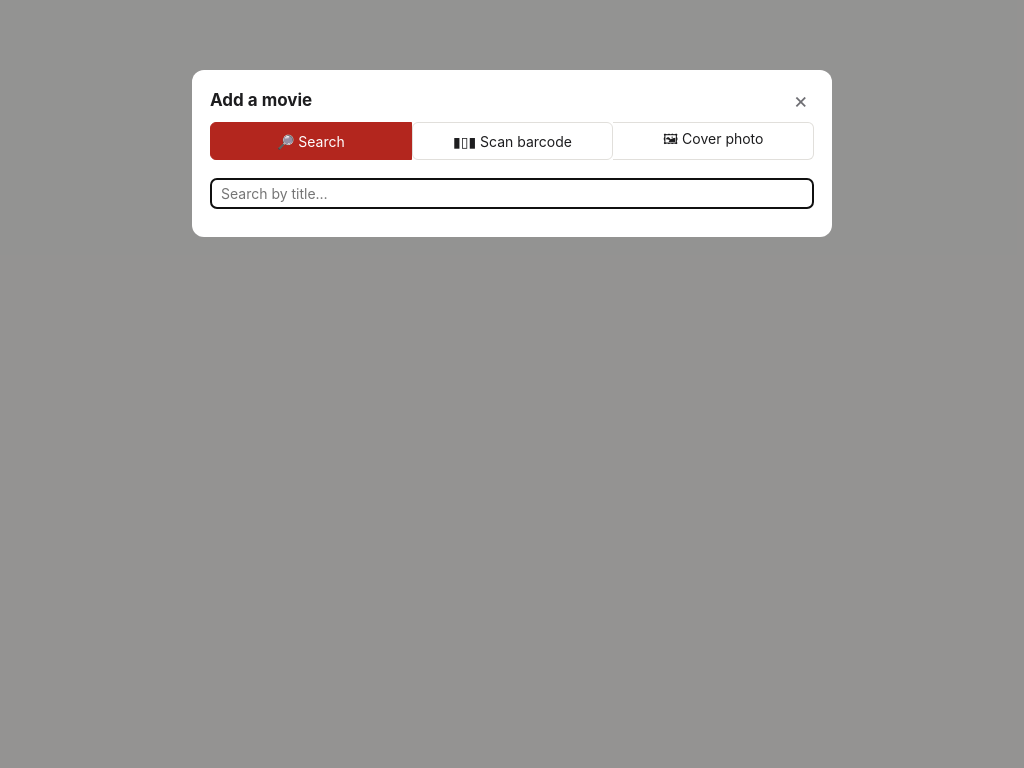
Scenario: search results show their source › badges TMDB, Elonet and linked results
Type "x" into the field with placeholder "Search by title…".
click(512, 194); type("x")  # box [210, 178, 814, 209]
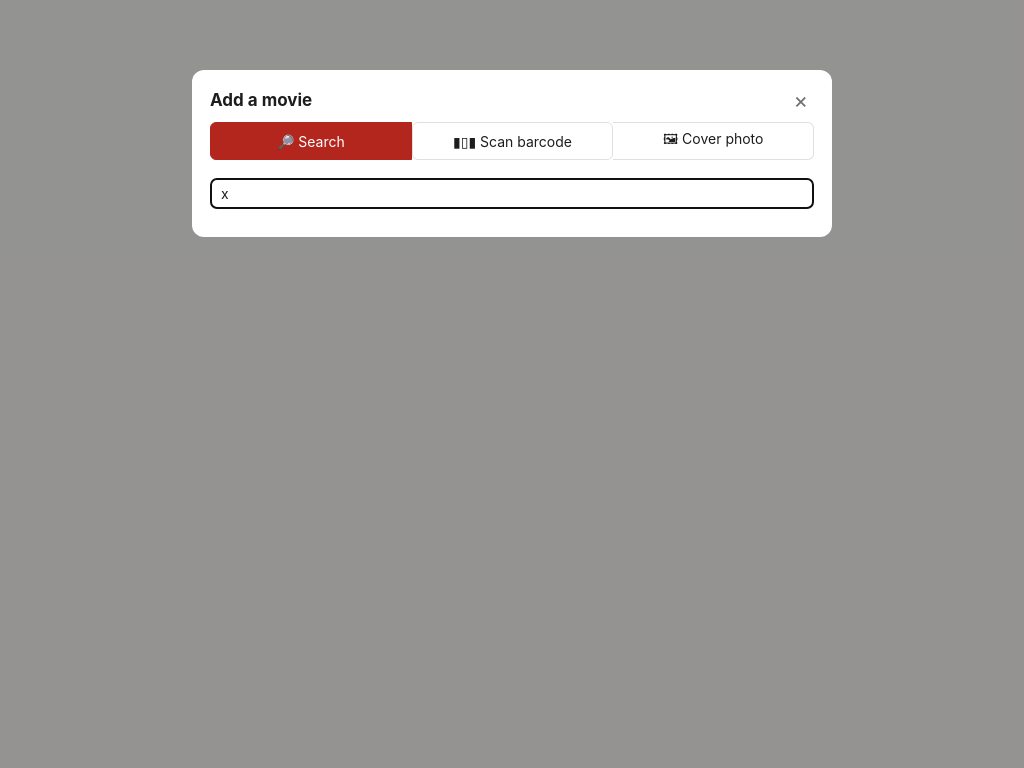
Submit the form from the field with placeholder "Search by title…", box [210, 178, 814, 209]
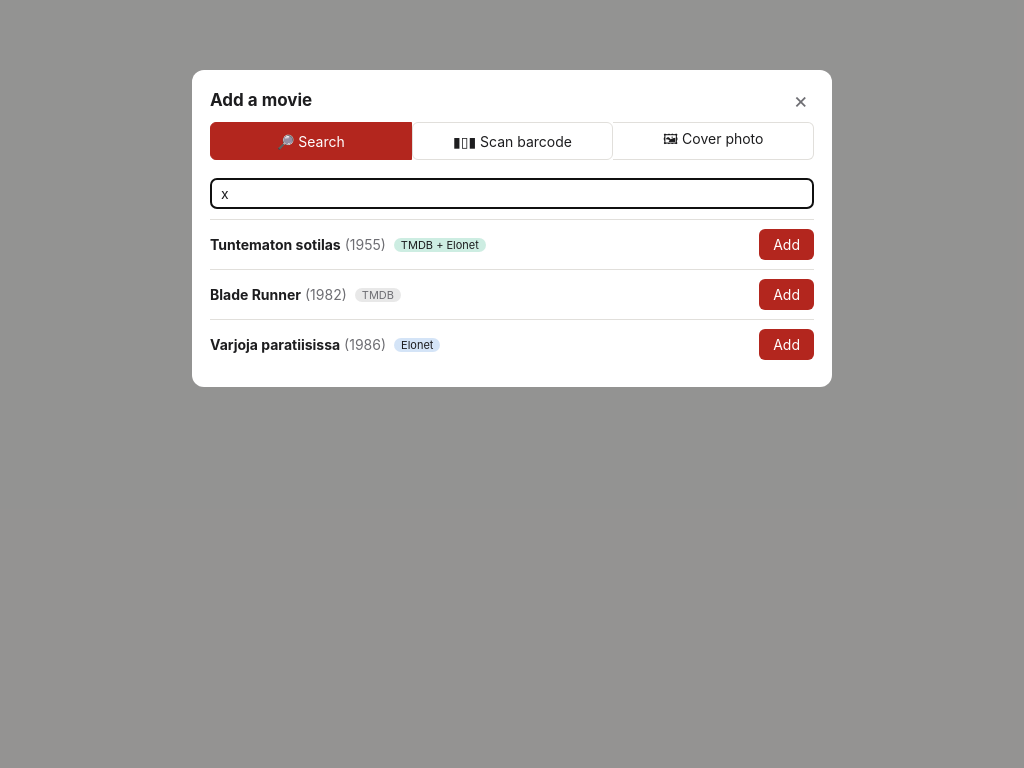
Check: the text "Blade Runner" is shown, box [210, 286, 301, 303]
Check: the text "TMDB + Elonet" is shown, box [394, 238, 486, 252]
Check: the text "TMDB" is shown, box [355, 288, 401, 302]
